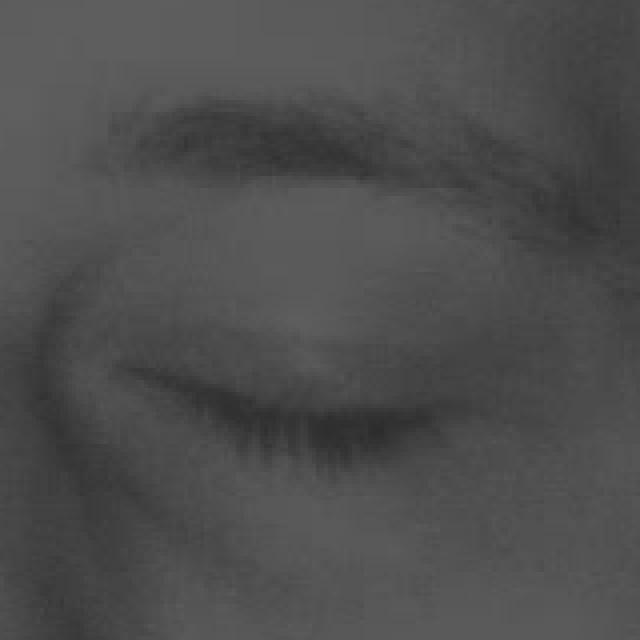Eyeclosed: (103, 250, 458, 595)
